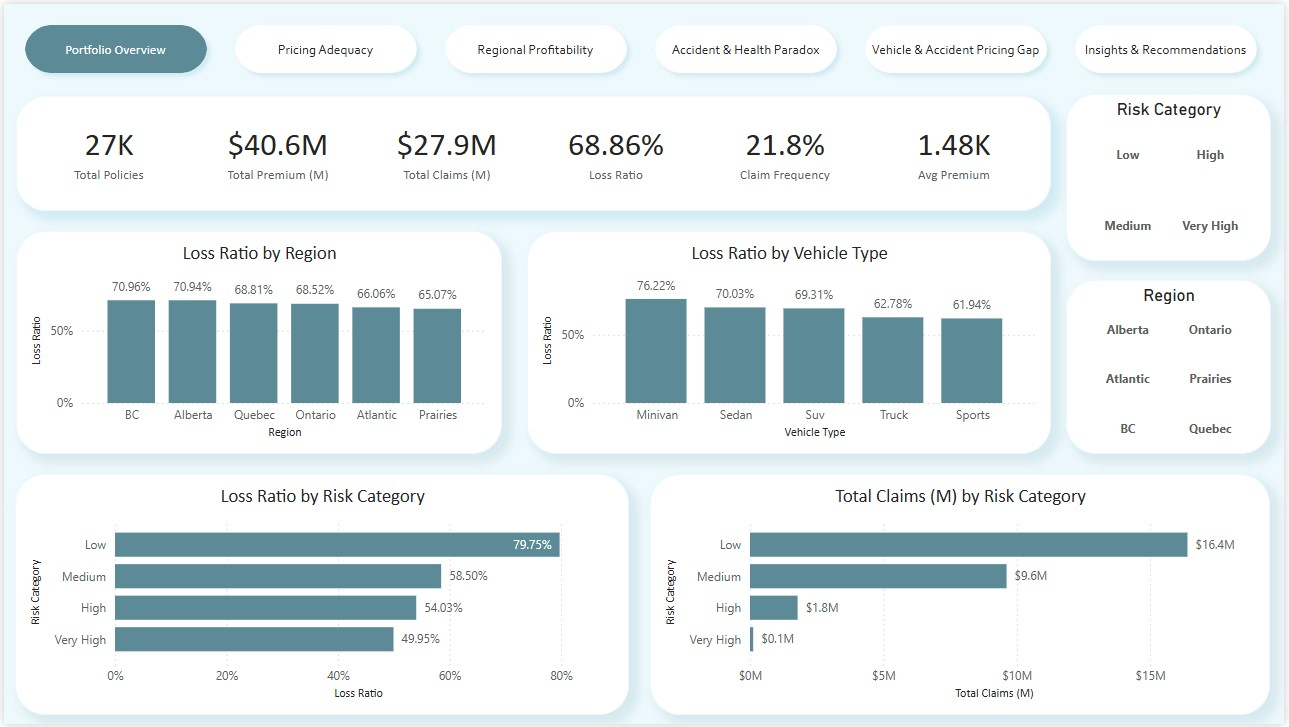

This screenshot's page, from the dashboard's own definition file:
{"tool":"powerbi","page":{"name":"Portfolio Overview","canvas":[1280,720],"ordinal":0},"visuals":[{"type":"cardVisual","fields":{"Data":["INSURANCE_DETAIL.Total Policies","INSURANCE_DETAIL.Total Premium (M)","INSURANCE_DETAIL.Total Claims (M)","INSURANCE_DETAIL.Loss Ratio","INSURANCE_DETAIL.Claim Frequency","INSURANCE_DETAIL.Avg Premium"]},"box":[12.2,92.2,1034.4,114.4],"z":0},{"type":"clusteredBarChart","fields":{"Y":["INSURANCE_DETAIL.Loss Ratio"],"Category":["INSURANCE_DETAIL.RISKCATEGORY"]},"box":[11.2,470,613.8,241.2],"z":1000},{"type":"clusteredColumnChart","fields":{"Category":["INSURANCE_DETAIL.REGION"],"Y":["INSURANCE_DETAIL.Loss Ratio"]},"box":[11.7,226.7,486.7,223.3],"z":2000},{"type":"pageNavigator","box":[11.5,12.4,1255.6,65.6],"z":3000},{"type":"clusteredColumnChart","fields":{"Y":["INSURANCE_DETAIL.Loss Ratio"],"Category":["INSURANCE_DETAIL.VEHICLETYPE"]},"box":[523.3,226.7,523.3,223.3],"z":4000},{"type":"slicer","title":"Risk Category","fields":{"Values":["INSURANCE_DETAIL.RISKCATEGORY"]},"box":[1062.2,90,204.4,166.7],"z":5000},{"type":"slicer","title":"Region","fields":{"Values":["INSURANCE_DETAIL.REGION"]},"box":[1062.2,275.6,204.4,174.4],"z":6000},{"type":"clusteredBarChart","fields":{"Category":["INSURANCE_DETAIL.RISKCATEGORY"],"Y":["INSURANCE_DETAIL.Total Claims (M)"]},"box":[646.2,470,620,241.2],"z":7000}]}

Visuals, with their boxes in screenshot pixels (x1, y1, x2, y2), scaled from the page's 1280x720 canvas onto the 1289x727 screenshot:
cardVisual - INSURANCE_DETAIL.Total Policies x INSURANCE_DETAIL.Total Premium (M): 12:93:1054:209
clusteredBarChart - INSURANCE_DETAIL.Loss Ratio x INSURANCE_DETAIL.RISKCATEGORY: 11:475:629:718
clusteredColumnChart - INSURANCE_DETAIL.REGION x INSURANCE_DETAIL.Loss Ratio: 12:229:502:454
pageNavigator: 12:13:1276:79
clusteredColumnChart - INSURANCE_DETAIL.Loss Ratio x INSURANCE_DETAIL.VEHICLETYPE: 527:229:1054:454
"Risk Category" slicer: 1070:91:1276:259
"Region" slicer: 1070:278:1276:454
clusteredBarChart - INSURANCE_DETAIL.RISKCATEGORY x INSURANCE_DETAIL.Total Claims (M): 651:475:1275:718
